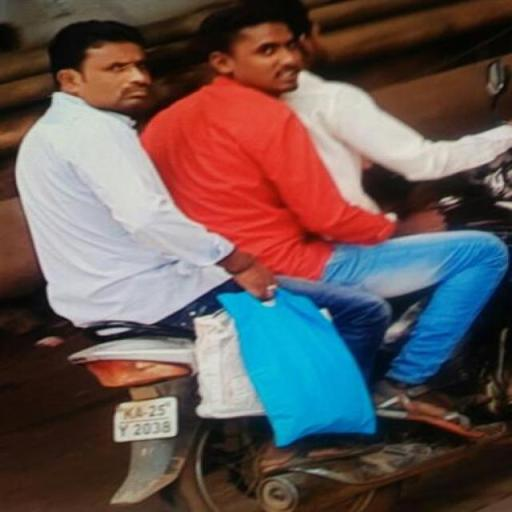tripple riding: (11, 2, 507, 337)
